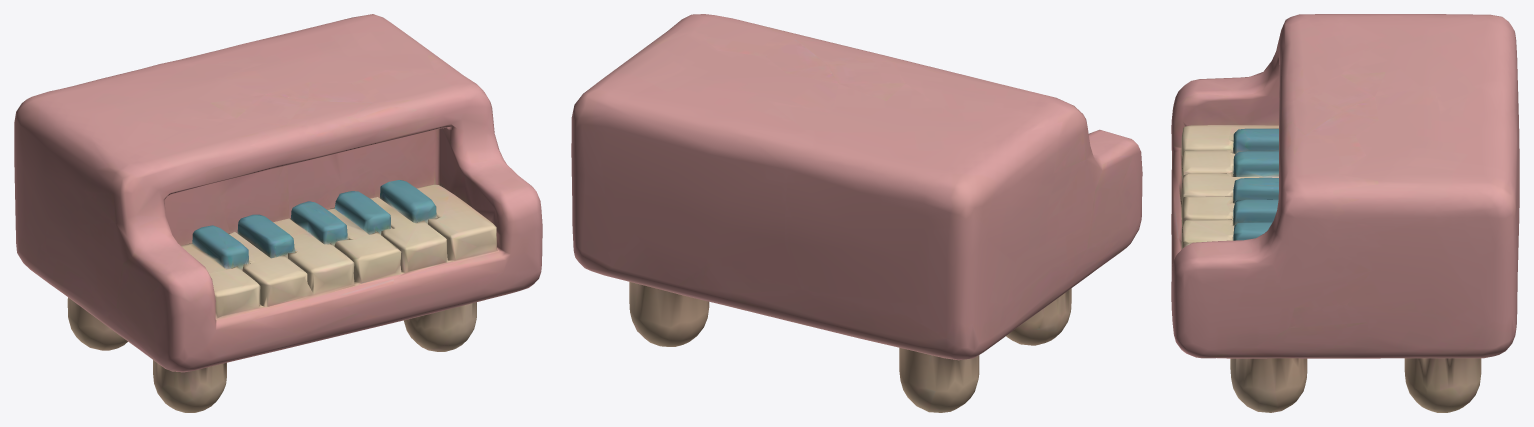
The model's file is toy_piano.glb.
3 views of the same model, side by side, from view 1: azimuth 30°, elevation 25°; view 2: azimuth 150°, elevation 25°; view 3: azimuth 270°, elevation 25° (orthographic). The views are drawn at different scales.
Visible parts, largest first — view 1: tripo_node_497097d4-44ce-4999-8a6b-4885f1c8c78a; view 2: tripo_node_497097d4-44ce-4999-8a6b-4885f1c8c78a; view 3: tripo_node_497097d4-44ce-4999-8a6b-4885f1c8c78a.
Boxes of the visible parts, x1,y1,x2,y2 form: tripo_node_497097d4-44ce-4999-8a6b-4885f1c8c78a: (14, 14, 542, 412); tripo_node_497097d4-44ce-4999-8a6b-4885f1c8c78a: (571, 14, 1142, 412); tripo_node_497097d4-44ce-4999-8a6b-4885f1c8c78a: (1171, 14, 1519, 412).
Size of the model in its own units: 0.6 by 0.3724 by 0.4692.
Materials: 1 (1 with a texture image).
